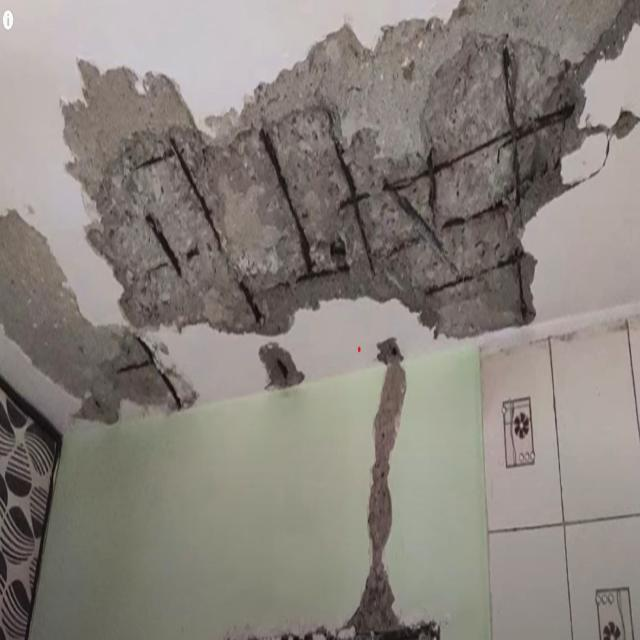Spalling: (1, 3, 638, 324), (309, 335, 434, 640), (49, 328, 198, 437), (257, 339, 303, 396)
